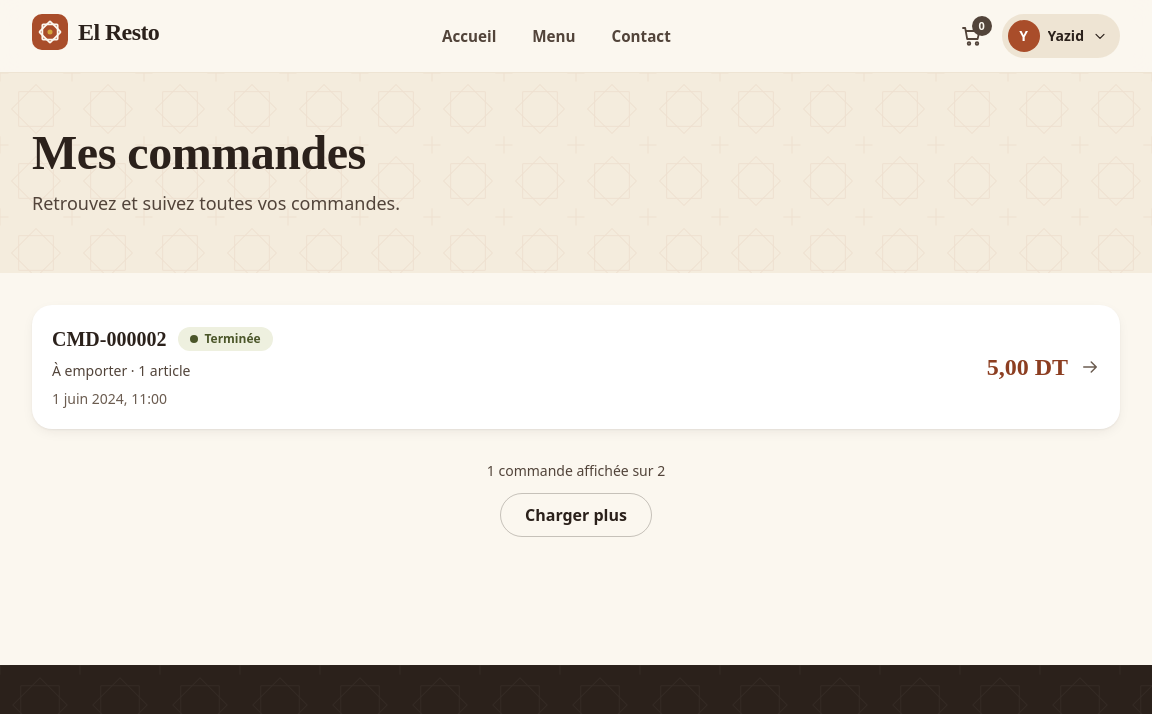
Test case: /commandes : liste paginée › charge la page suivante avec « Charger plus » puis masque le bouton
Expected: the text "CMD-000002" is shown, [52, 325, 166, 353]
Expected: the text "CMD-000001" is not shown
Click the button "Charger plus".
click(576, 515)  # box [500, 493, 652, 537]
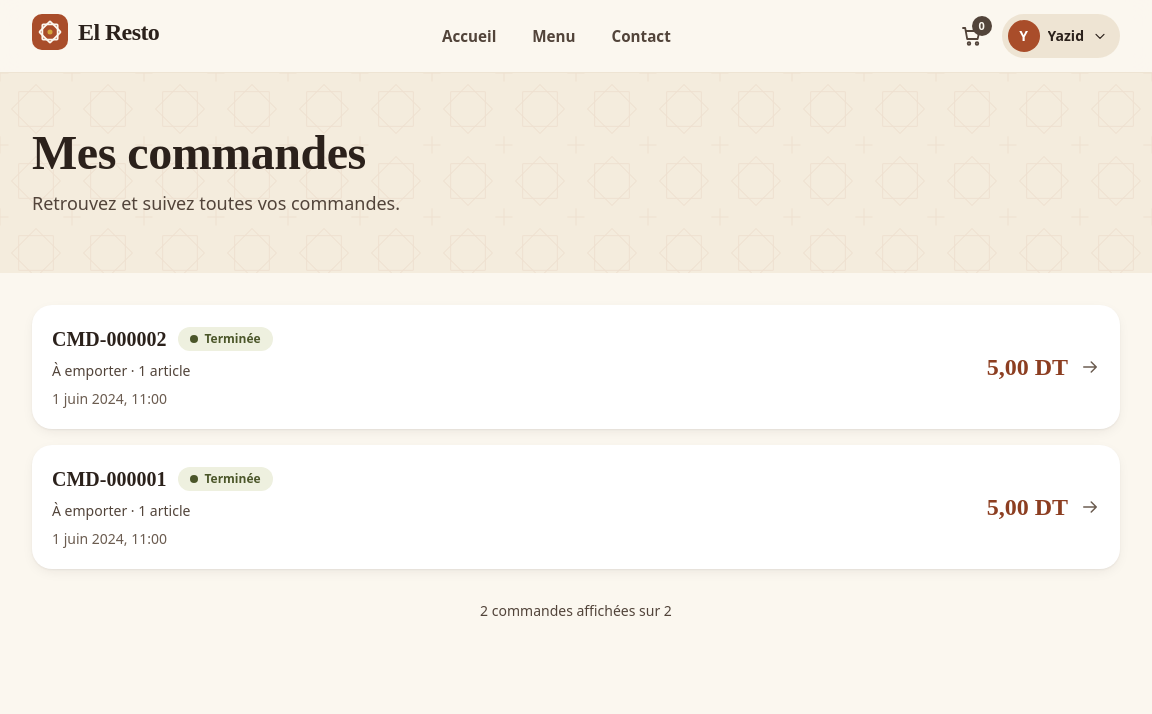
Now the text "CMD-000001" is shown, box [52, 465, 166, 493]
Now the button "Charger plus" is gone
